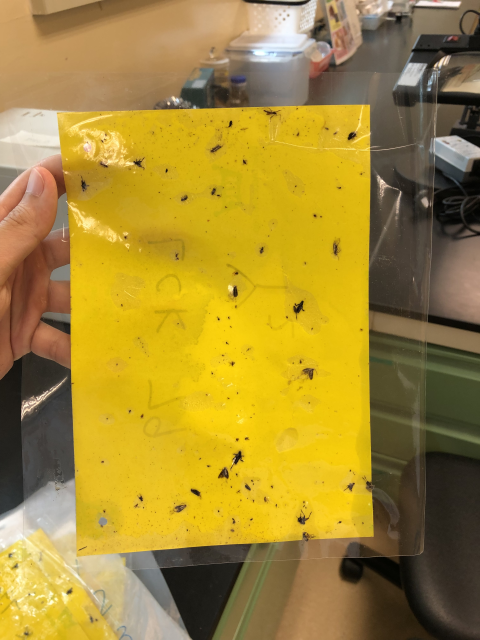DBM: (299, 365, 319, 383), (330, 237, 343, 261), (208, 142, 224, 157), (217, 467, 231, 482), (171, 502, 187, 514), (230, 283, 240, 301)
